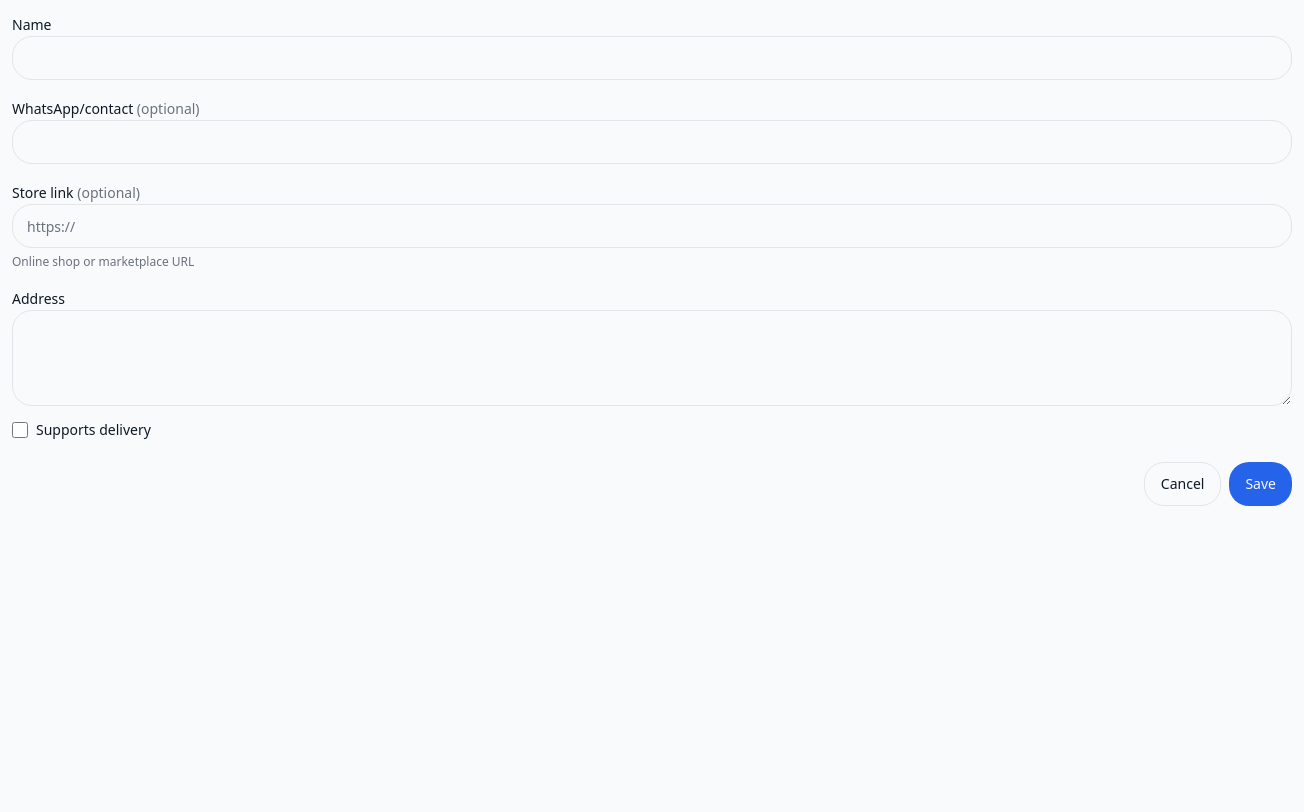
Test case: SupplierForm › toggles delivery cost visibility with supports delivery
The width and height of the screenshot is (1304, 812).
Check: the field labelled "Delivery cost (Rp)" is not shown
Click the checkbox labelled "Supports delivery" at point(20, 430), box [12, 422, 28, 438]
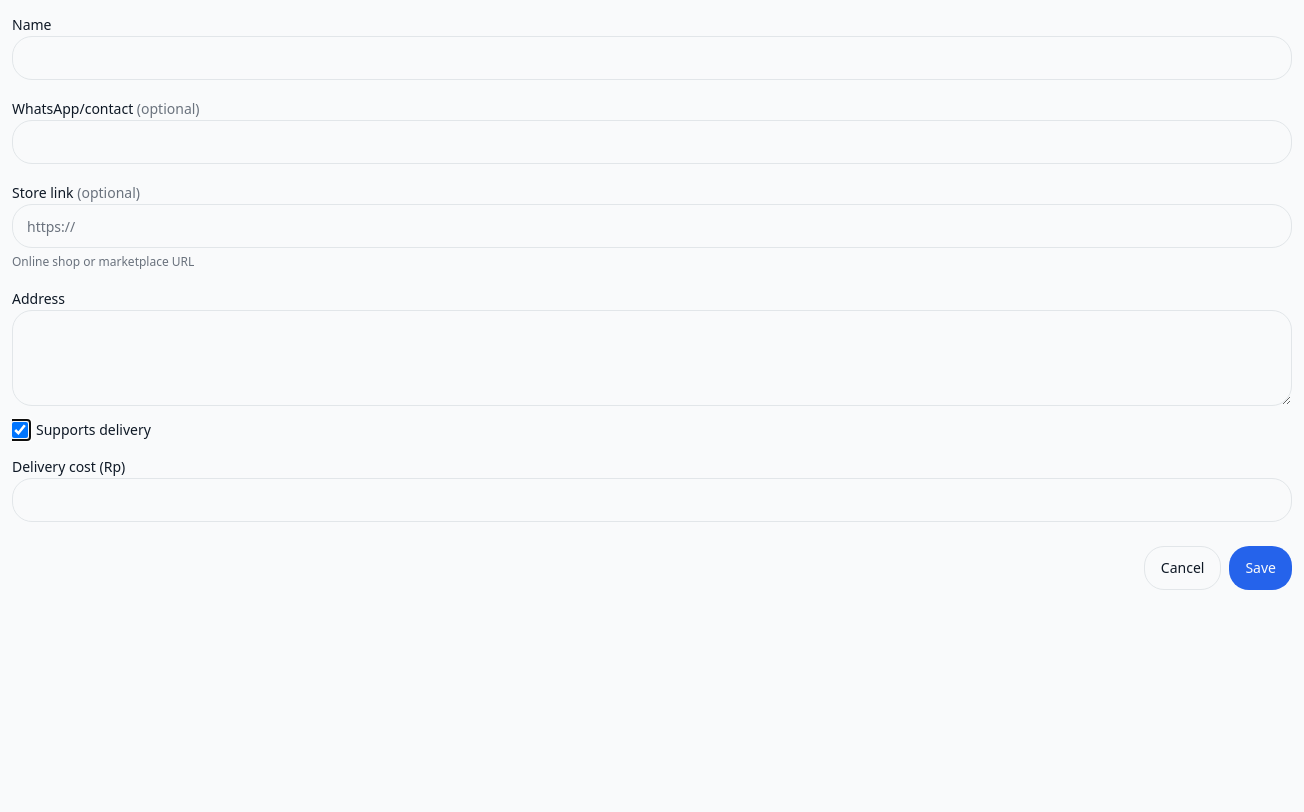
Click the checkbox labelled "Supports delivery" at point(20, 430), box [12, 422, 28, 438]
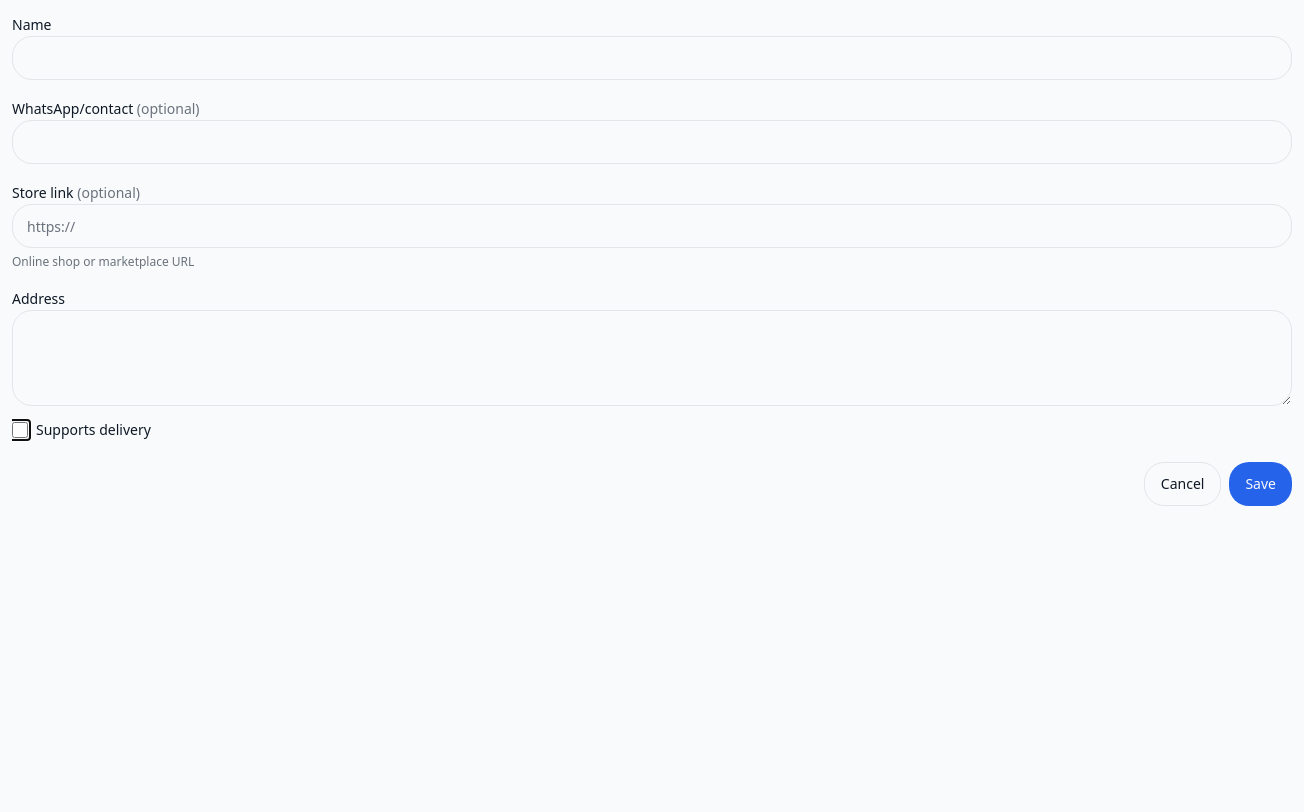
Check: the label labelled "Delivery cost (Rp)" is gone
